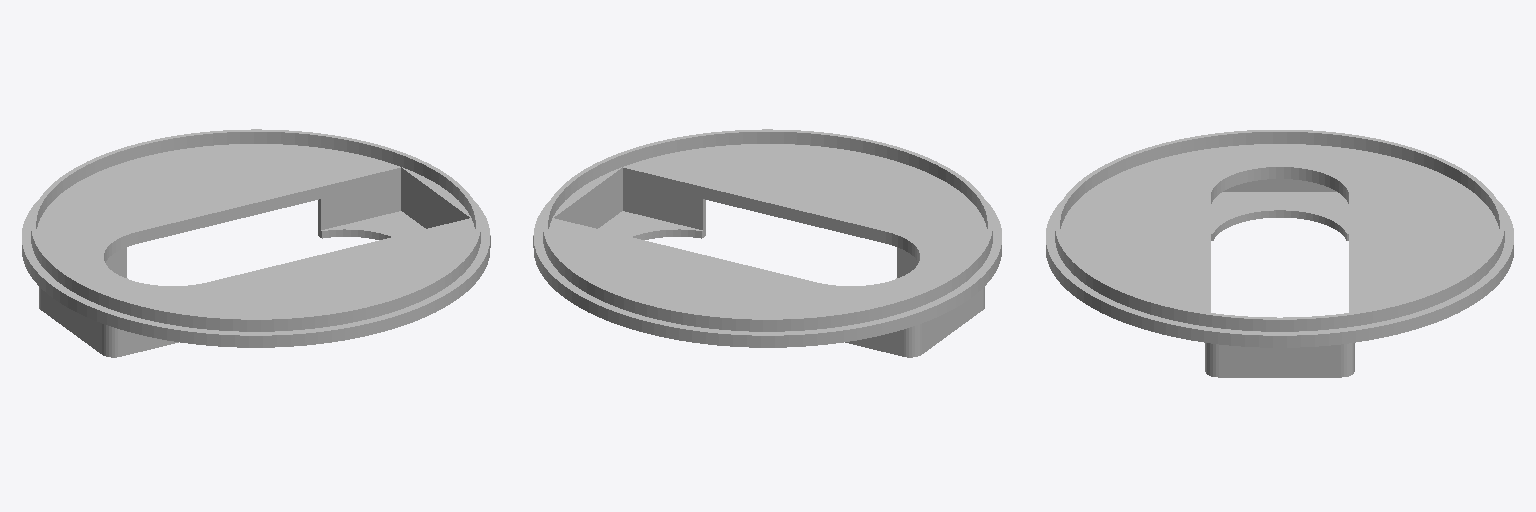
3 views of the same model, side by side, from view 1: azimuth 30°, elevation 25°; view 2: azimuth 150°, elevation 25°; view 3: azimuth 270°, elevation 25° (orthographic).
Visible parts, largest first — view 1: Volumenkörper3; view 2: Volumenkörper3; view 3: Volumenkörper3.
Boxes of the visible parts, <box> form: Volumenkörper3: <box>22,129,490,357</box>; Volumenkörper3: <box>533,129,1001,357</box>; Volumenkörper3: <box>1046,130,1513,377</box>.
Bounding box in the file's own units: 176 × 26 × 176.